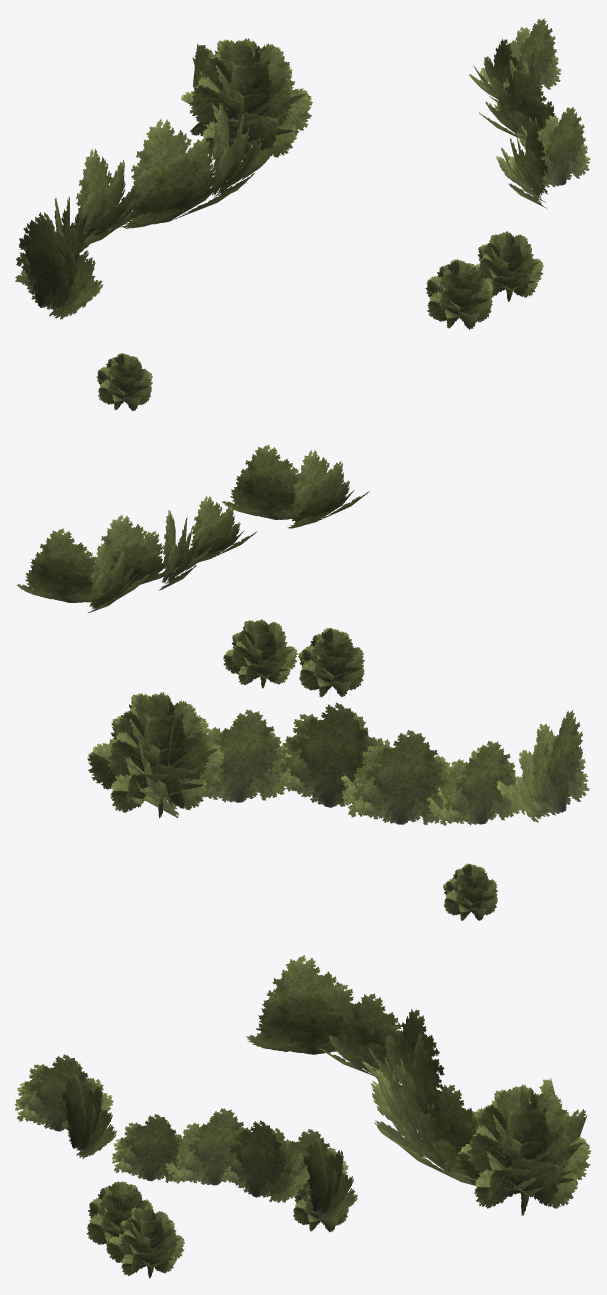
Rendered from bushes.obj.
The picture shows the model from 3 angles, top to bottom: view 1: azimuth 30°, elevation 25°; view 2: azimuth 150°, elevation 25°; view 3: azimuth 270°, elevation 25°; orthographic projection. The views are drawn at different scales.
Parts seen in each view (by area): view 1: LowLeaves__di_Tree_Leaf; view 2: LowLeaves__di_Tree_Leaf; view 3: LowLeaves__di_Tree_Leaf.
Part boxes in pixels (x1=…): LowLeaves__di_Tree_Leaf: x1=15, y1=18, x2=590, y2=411; LowLeaves__di_Tree_Leaf: x1=17, y1=444, x2=589, y2=920; LowLeaves__di_Tree_Leaf: x1=14, y1=955, x2=590, y2=1278.
Bounding box in the file's own units: 108 × 59.43 × 98.17.
